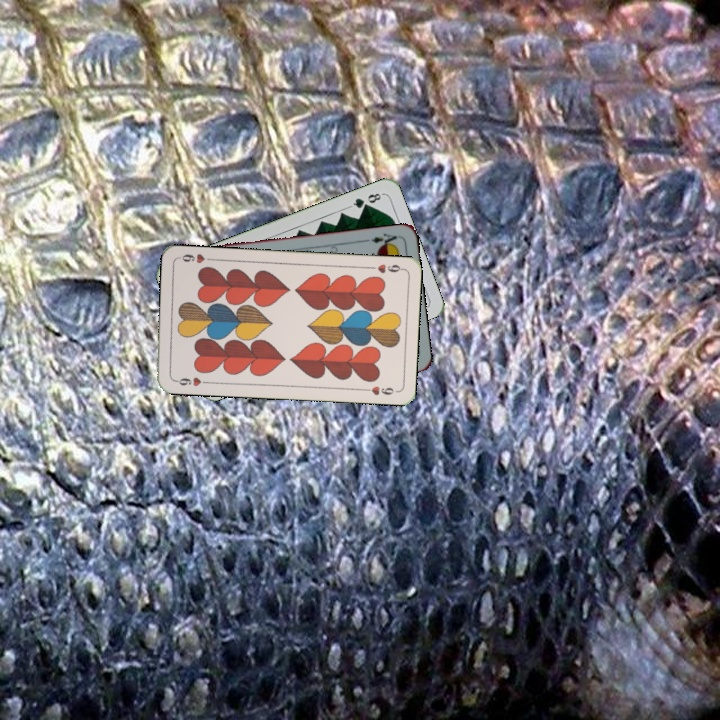EA: (367, 229, 401, 250)
G8: (346, 189, 385, 211)
H9: (170, 373, 211, 389), (365, 260, 405, 276)
